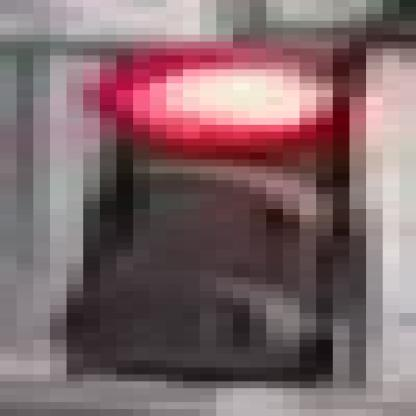Red Light: (84, 46, 364, 383)
